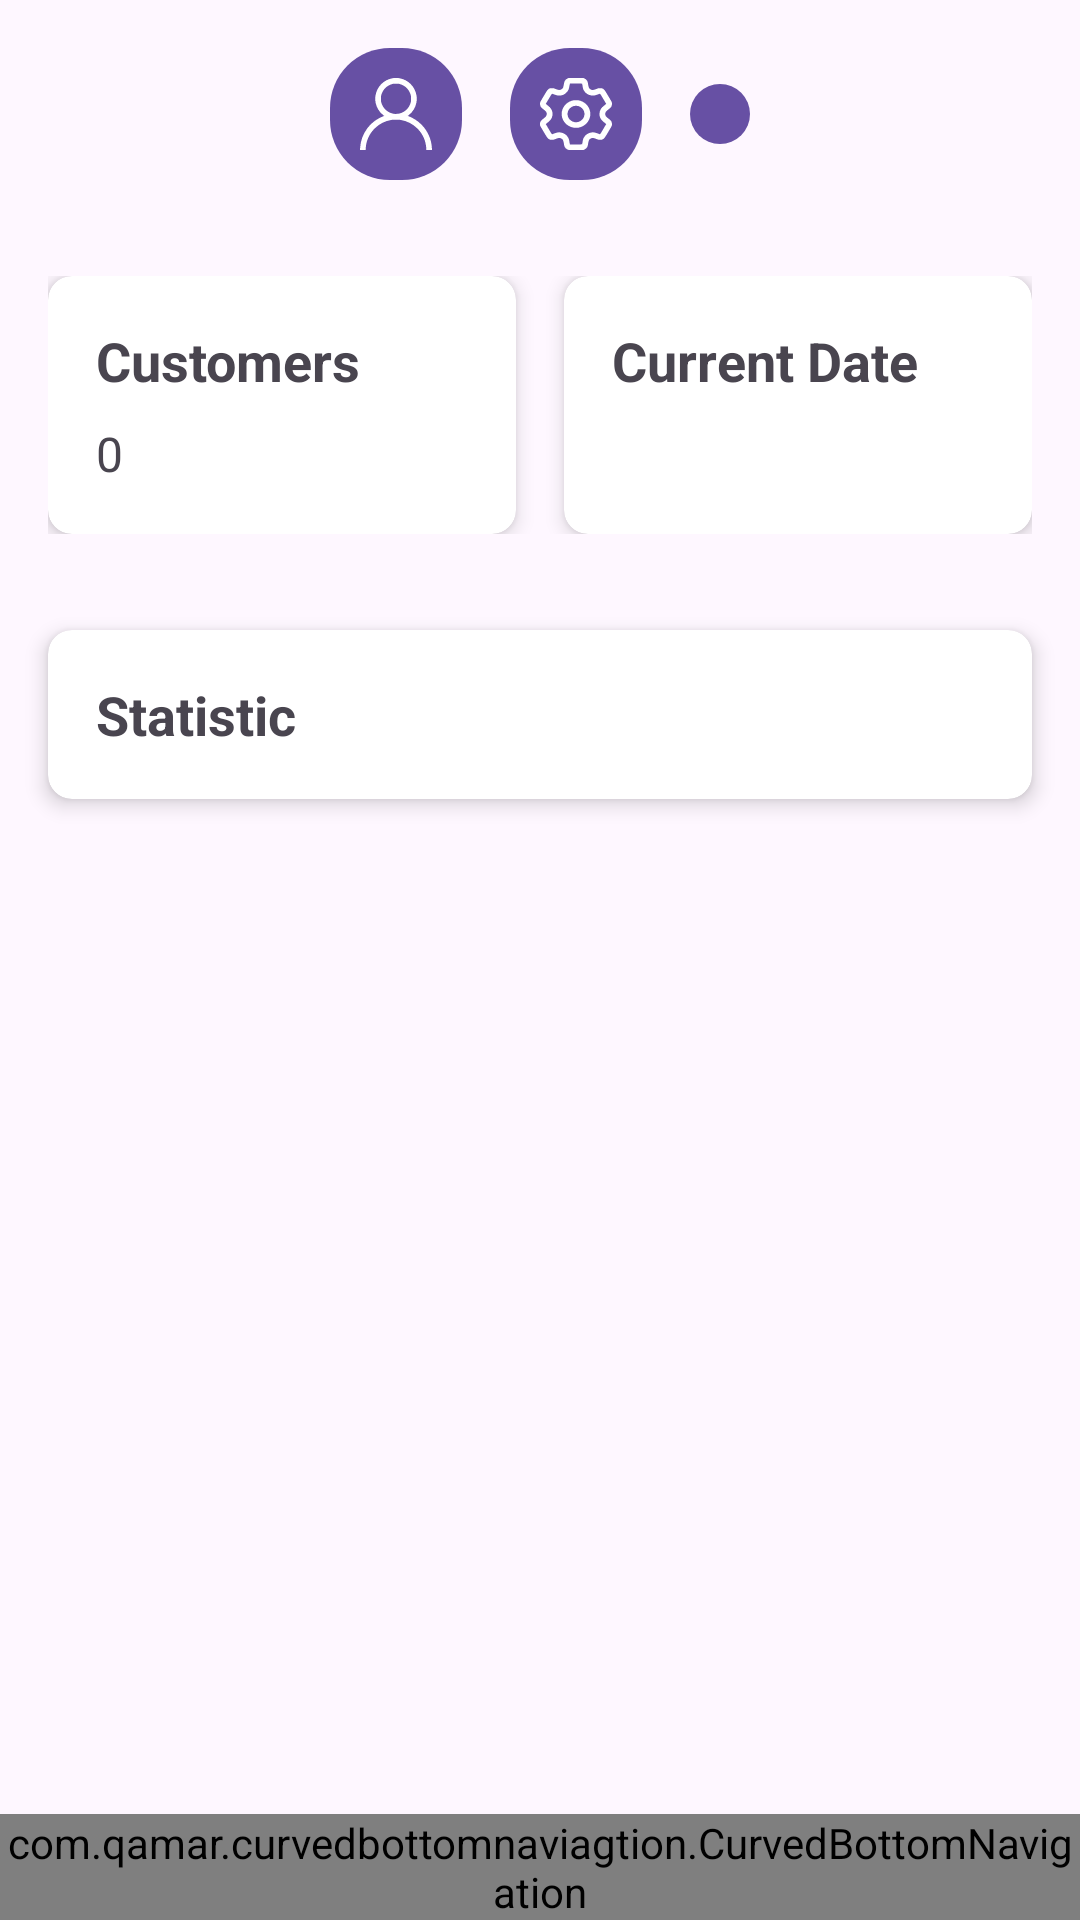

Point at icon controls on the screen. Image size 1080x1920, points as point (x, y).
setting: point (576, 114)
user: point (396, 114)
